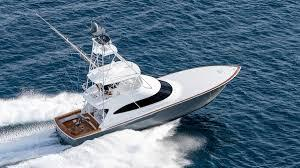fishing boat: (51, 8, 250, 148)
